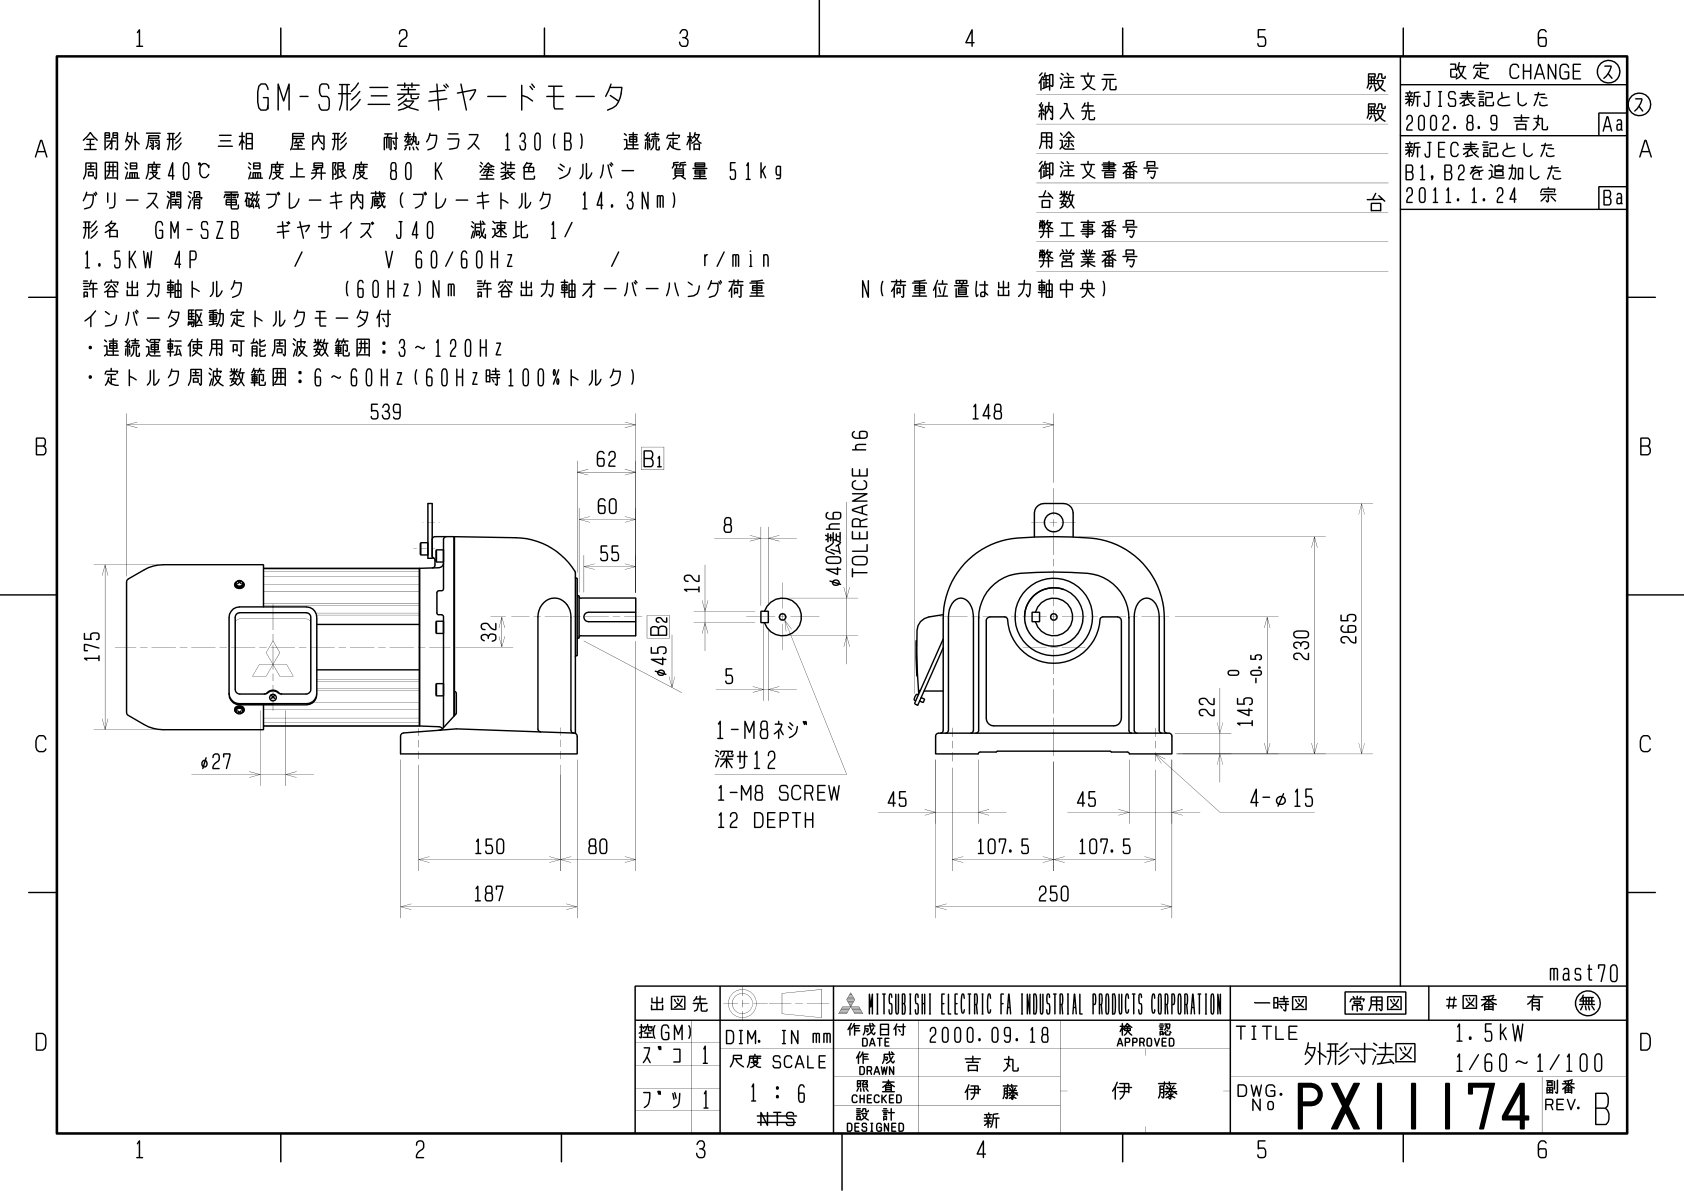GM_S_インバタ屋外＿三相_脚: (58, 388, 1389, 945)
